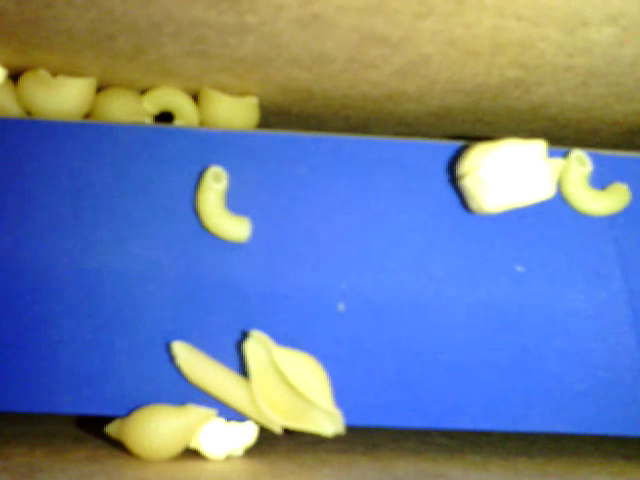elbow: (559, 151, 630, 219), (195, 166, 251, 243), (143, 86, 198, 125)
penne: (167, 337, 282, 436)
shell: (240, 328, 345, 437), (105, 400, 218, 463), (17, 68, 98, 119), (195, 85, 260, 128), (91, 86, 151, 122)
